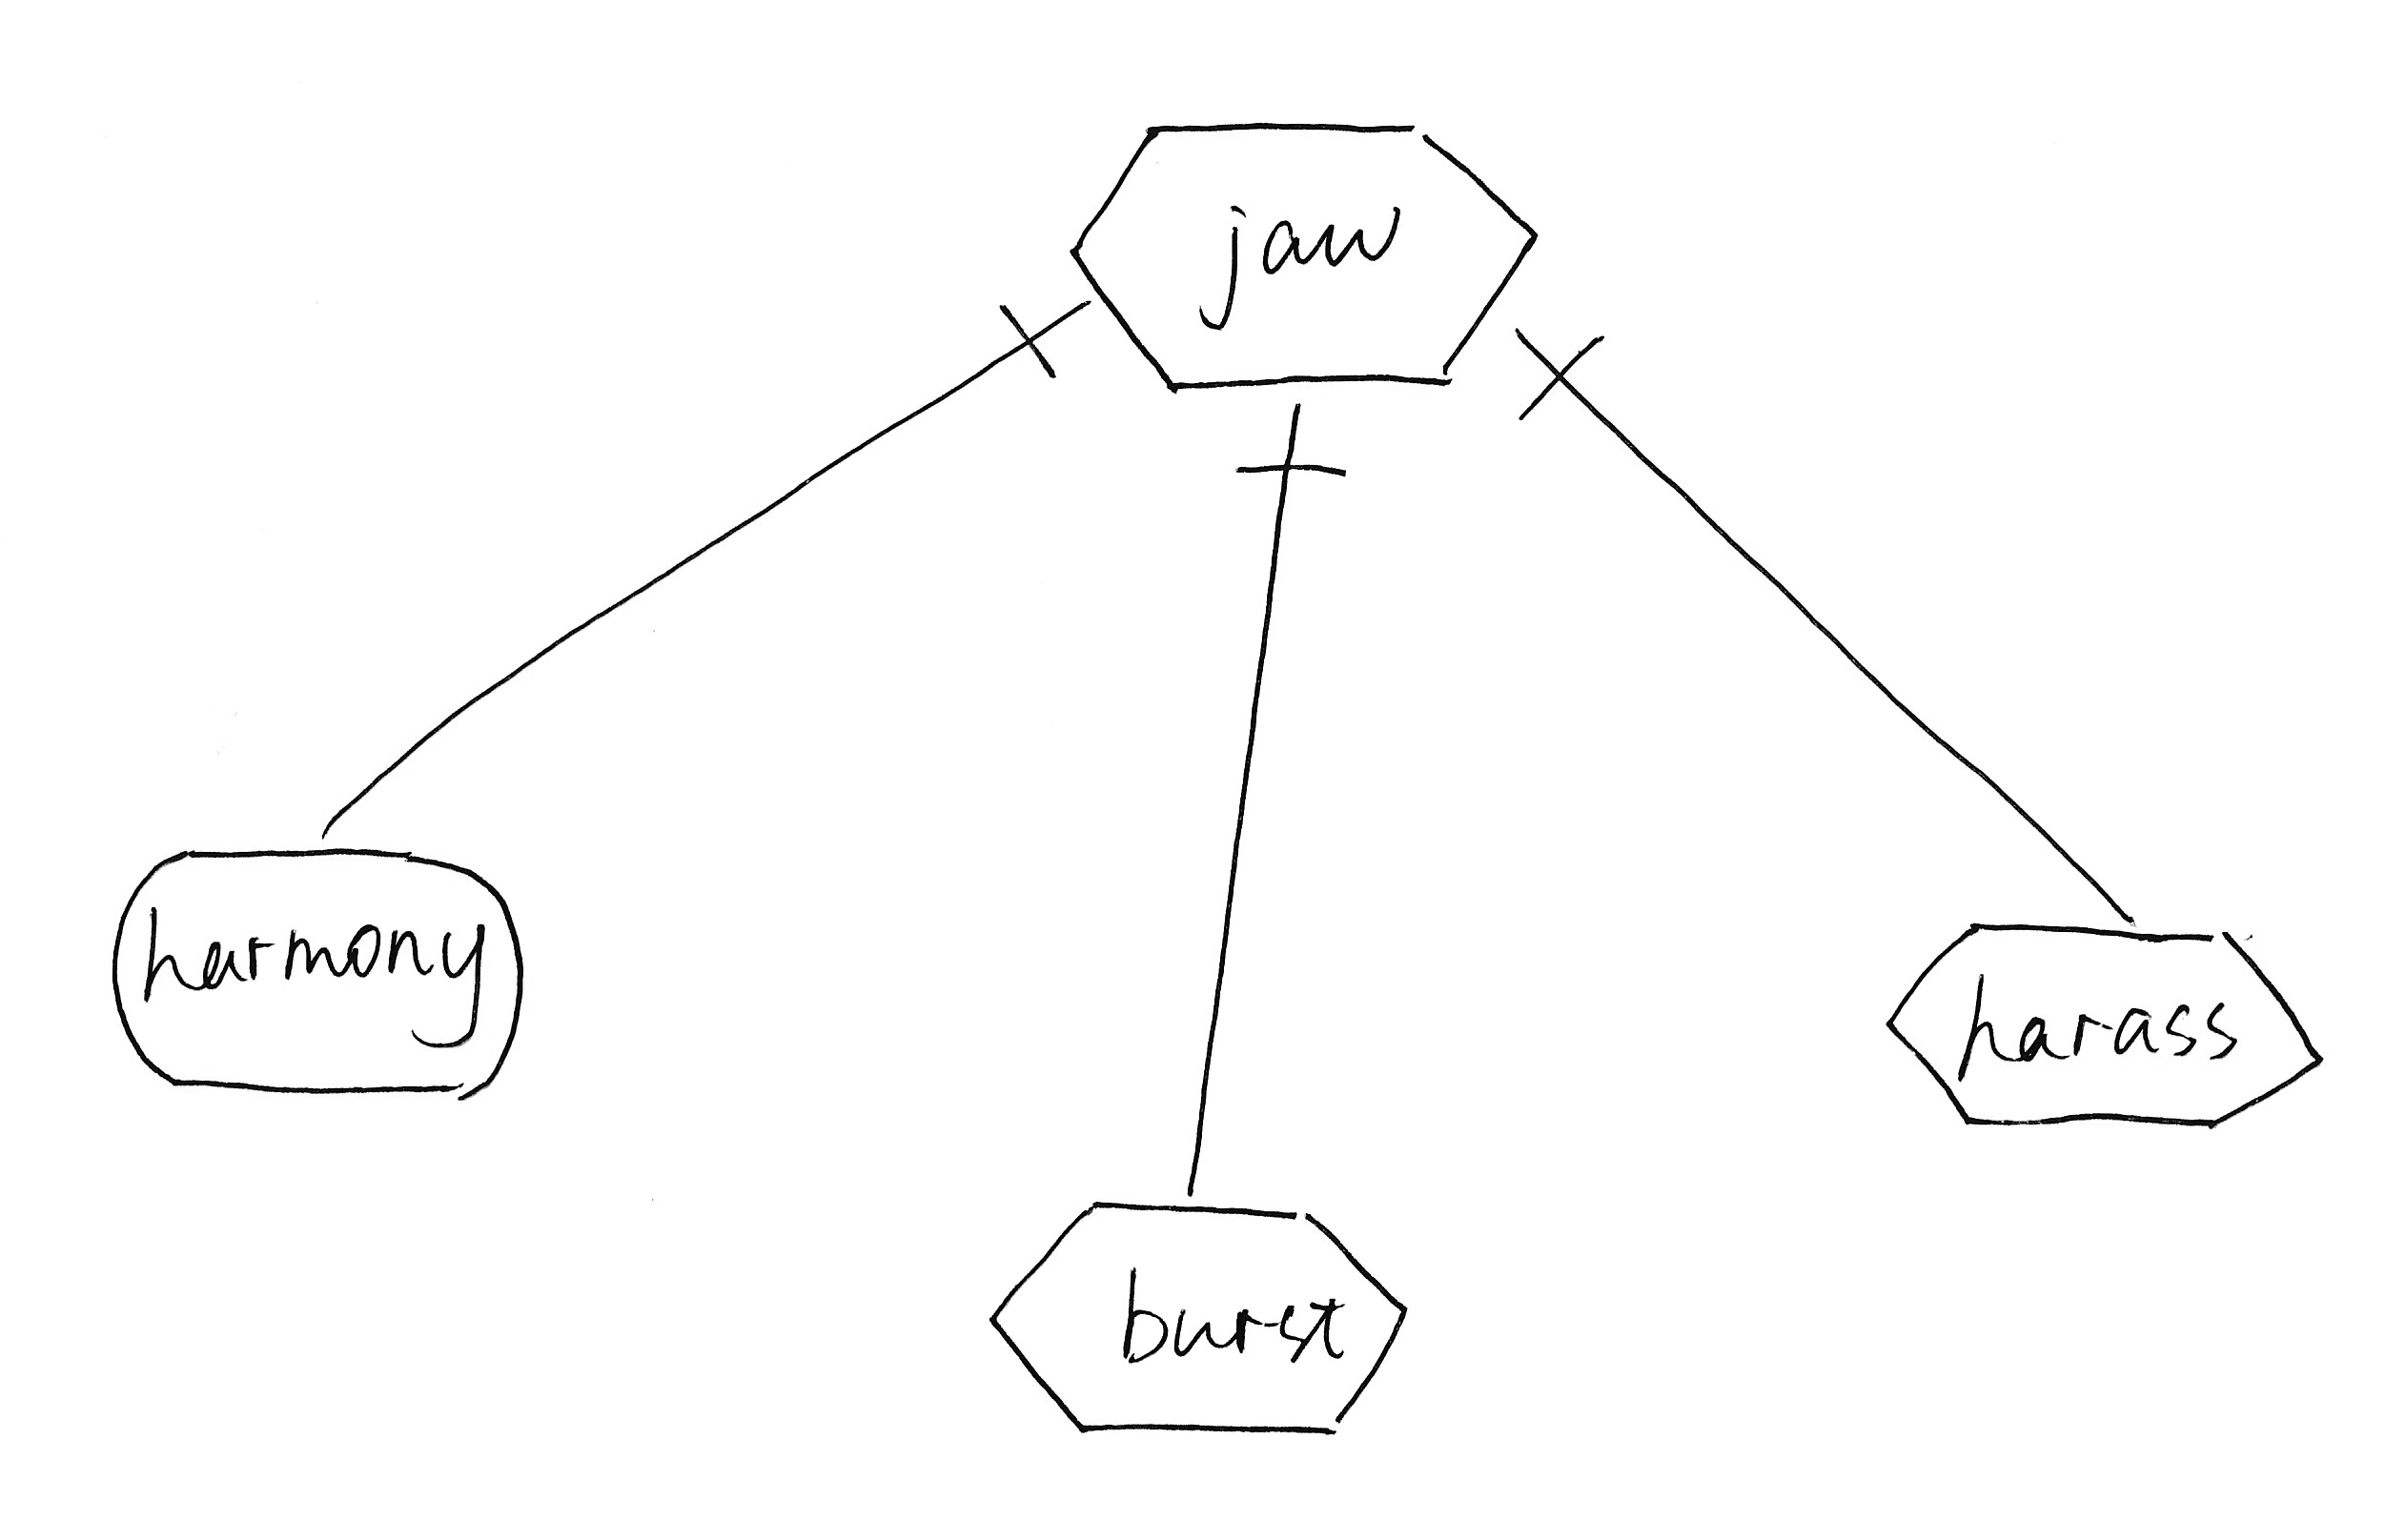and: (1226, 389, 1375, 530), (1499, 312, 1622, 446), (977, 277, 1105, 403)
goal: (82, 826, 558, 1121)
task: (1045, 86, 1552, 416), (977, 1172, 1424, 1452), (1864, 902, 2348, 1158)
